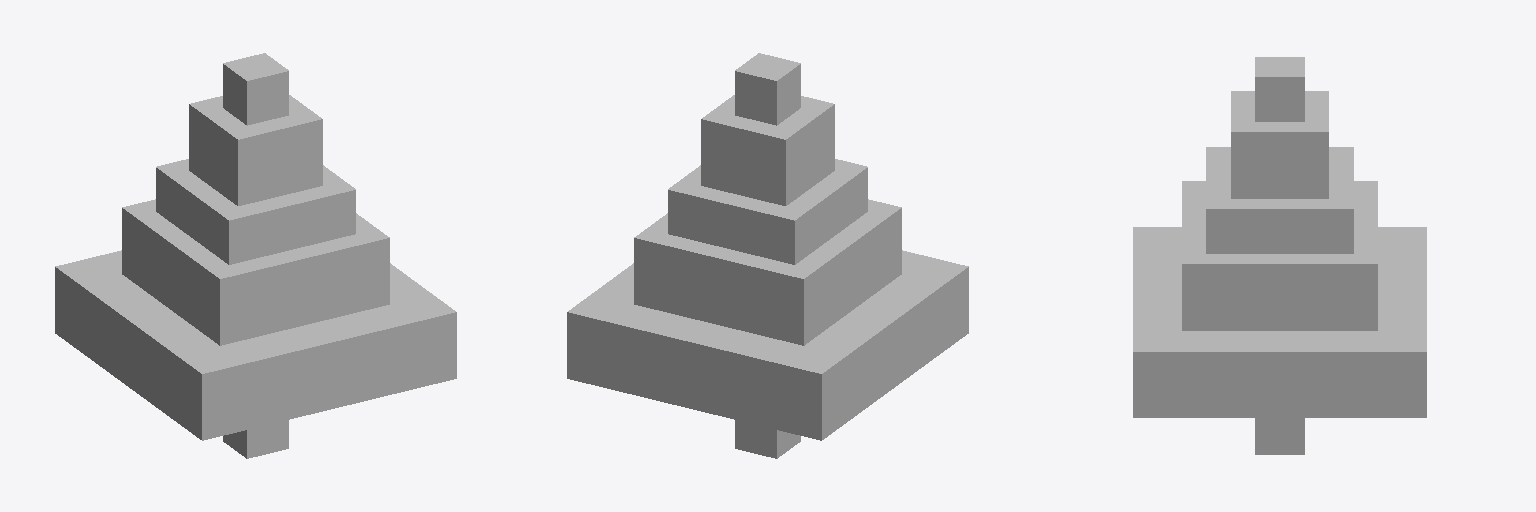
File: Tree.obj
3 views of the same model, side by side, from view 1: azimuth 30°, elevation 25°; view 2: azimuth 150°, elevation 25°; view 3: azimuth 270°, elevation 25° (orthographic).
Parts seen in each view (by area): view 1: object 1; view 2: object 1; view 3: object 1.
Part boxes in pixels (x1,y1,x2,y2): object 1: (55, 53, 456, 458); object 1: (567, 53, 968, 458); object 1: (1133, 57, 1426, 454).
Bounding box in the file's own units: 1.2 × 1.7 × 1.2.